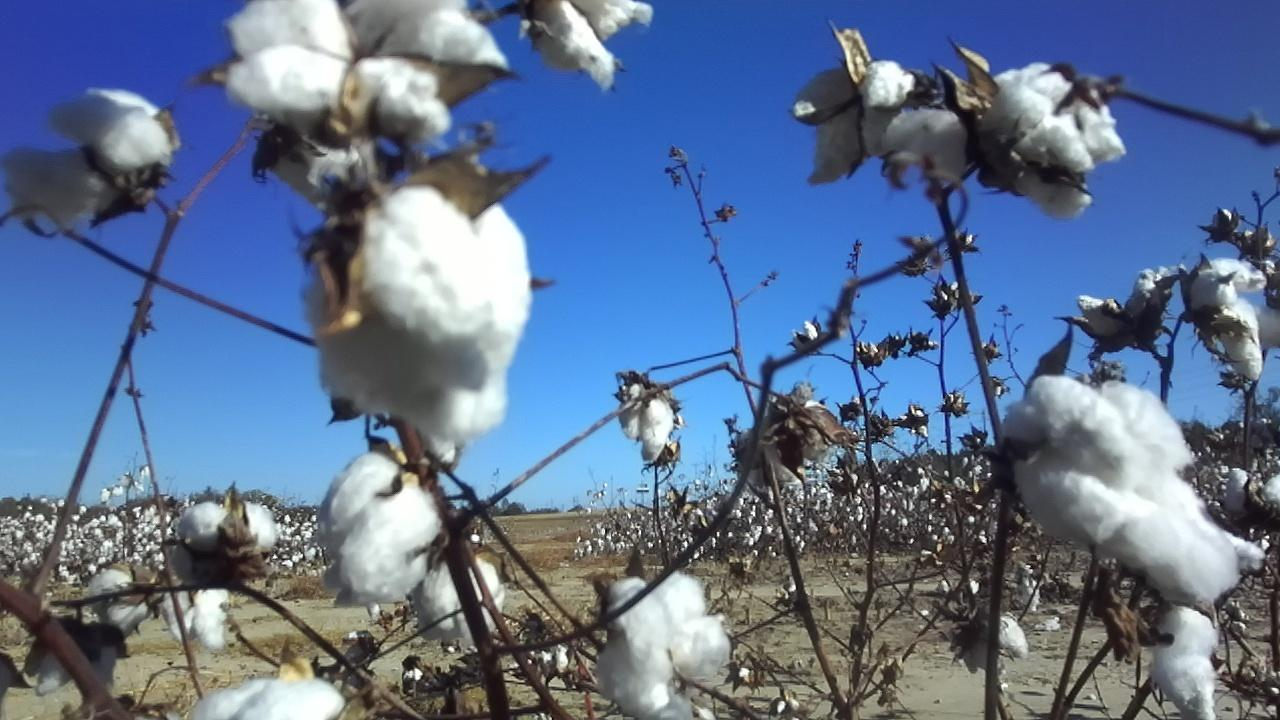cotton_ready: (300, 182, 532, 442), (1005, 374, 1240, 599), (228, 0, 509, 137), (1, 87, 174, 225), (596, 574, 730, 720), (321, 452, 444, 603), (990, 61, 1127, 174), (788, 62, 914, 184), (536, 0, 652, 92), (1192, 257, 1265, 379), (270, 124, 369, 210), (415, 554, 505, 647), (1148, 607, 1219, 720), (188, 677, 344, 720), (1074, 270, 1164, 343), (881, 110, 969, 184), (24, 627, 119, 695), (176, 502, 277, 559), (83, 567, 155, 634), (760, 397, 825, 466), (164, 581, 225, 650), (1016, 171, 1095, 224), (620, 383, 675, 457), (965, 615, 1032, 668)
